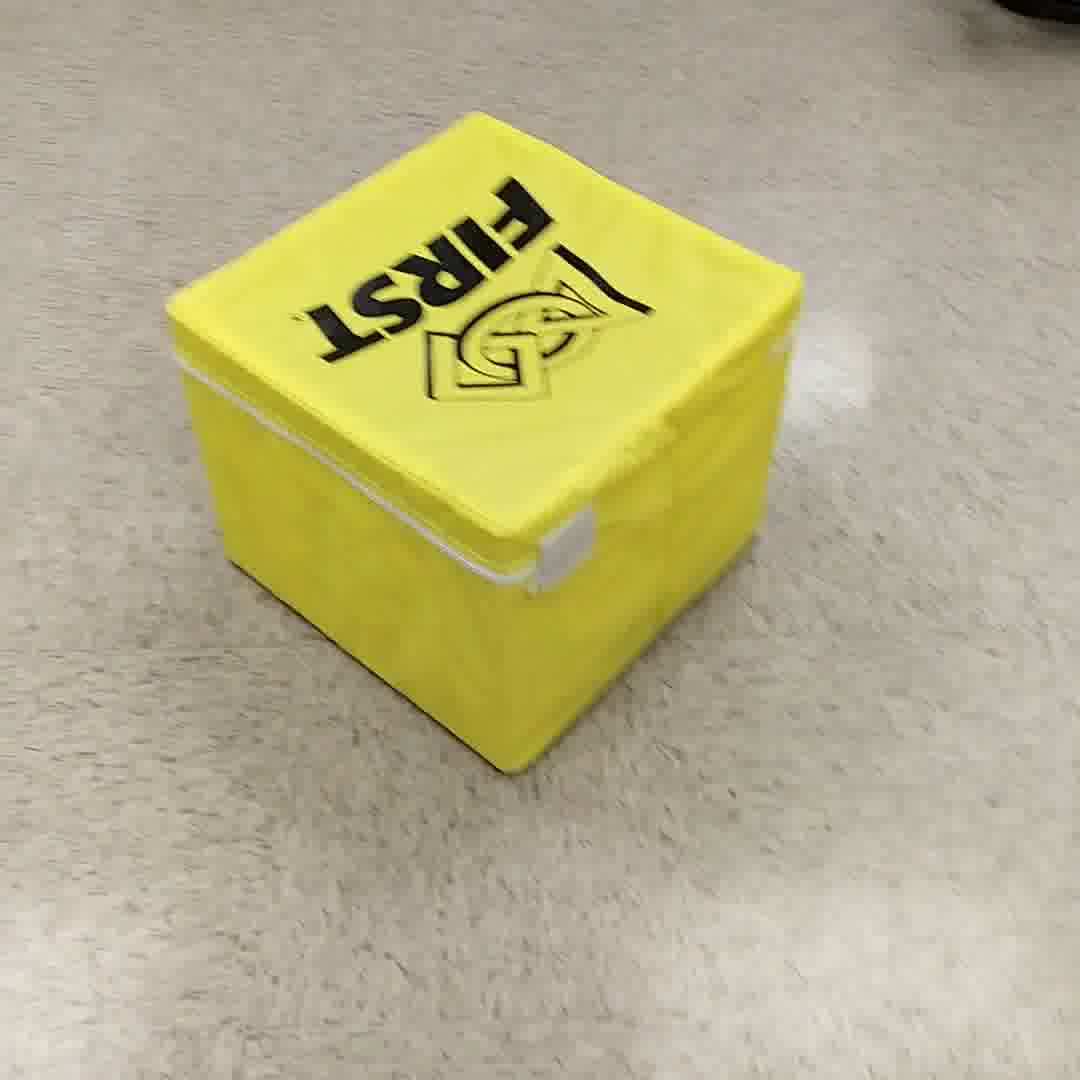box: (151, 103, 811, 779)
